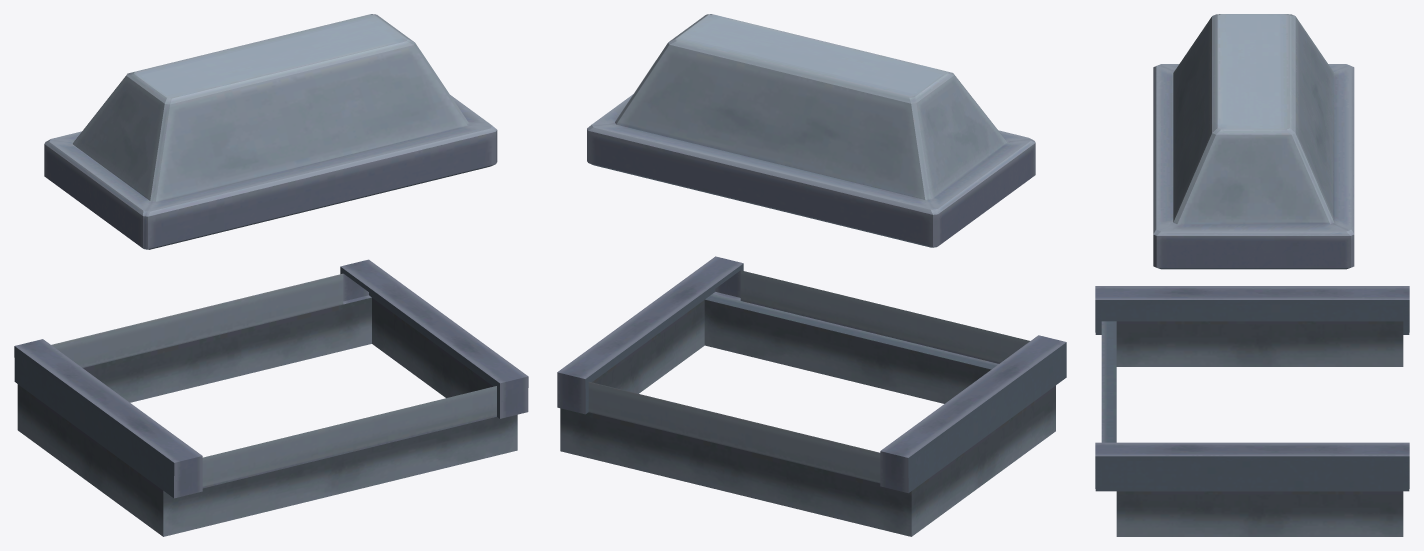
The model's file is ThePass.fbx.
The picture shows the model from 3 angles, left to right: view 1: azimuth 30°, elevation 25°; view 2: azimuth 150°, elevation 25°; view 3: azimuth 270°, elevation 25°; orthographic projection.
Visible parts, largest first — view 1: ThePass; view 2: ThePass; view 3: ThePass.
Boxes of the visible parts, box(x1,y1,x2,y2) form: ThePass: box(14, 14, 528, 536); ThePass: box(557, 14, 1066, 536); ThePass: box(1095, 14, 1409, 536).
Size of the model in its own units: 2.4 by 2.5 by 1.87.
1 material, 1 textured.
